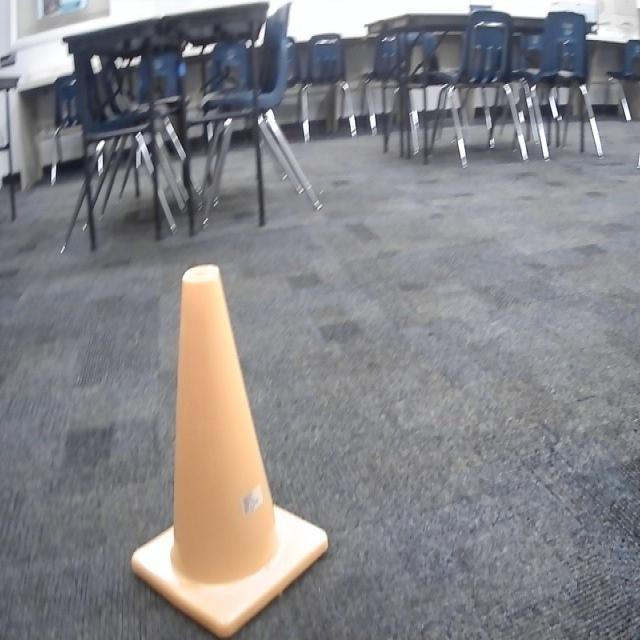cone: (131, 265, 332, 640)
